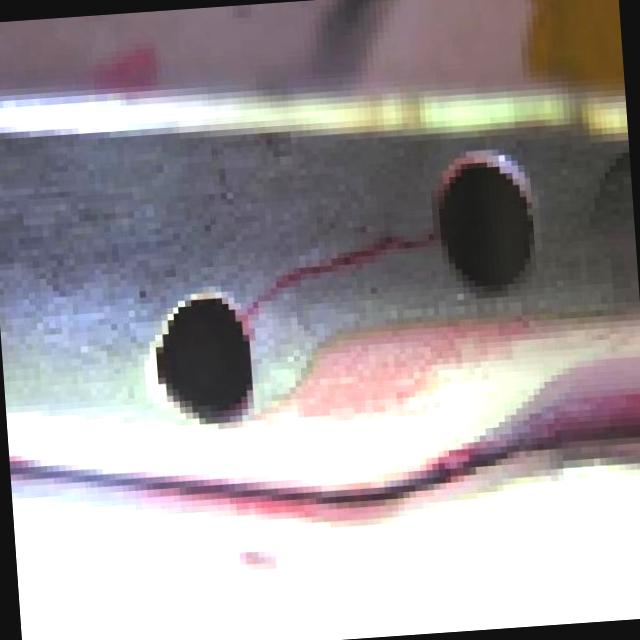crack: (238, 286, 284, 320), (279, 262, 342, 282), (336, 240, 392, 262), (388, 232, 444, 253)
